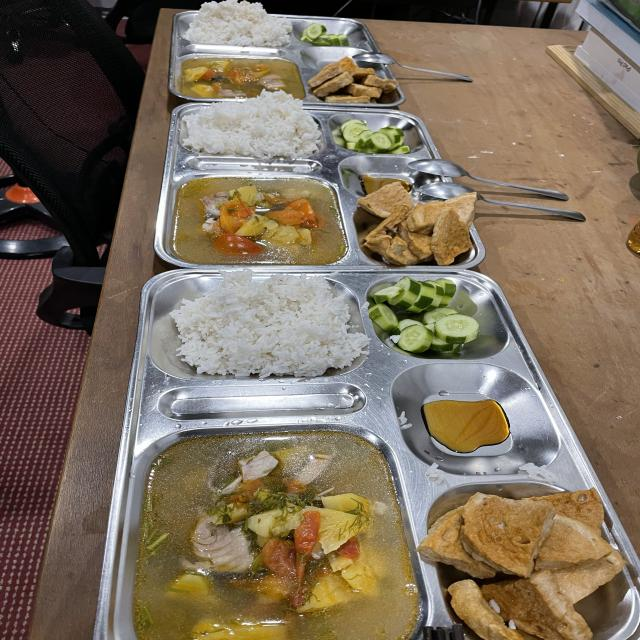canh_chua: (177, 440, 389, 640), (188, 180, 330, 258), (188, 56, 294, 96)
com_trang: (188, 285, 364, 373), (185, 103, 315, 155), (186, 19, 286, 49)
dau_hu_sot_ca: (452, 497, 610, 621), (375, 186, 469, 267), (321, 61, 393, 102)
